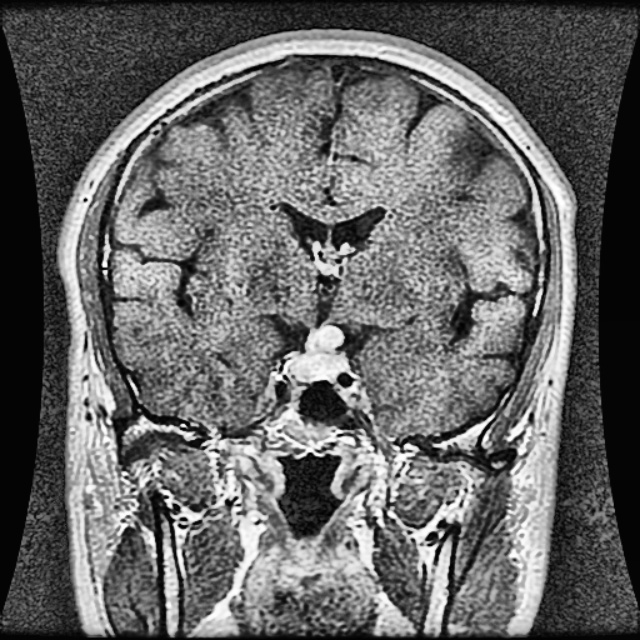Pituitary: (289, 327, 348, 382)
